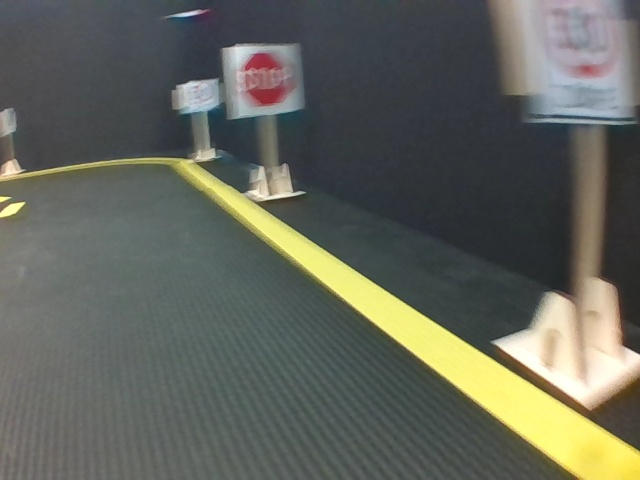30: (521, 1, 636, 125), (184, 80, 217, 108)
stop: (226, 45, 299, 112)
